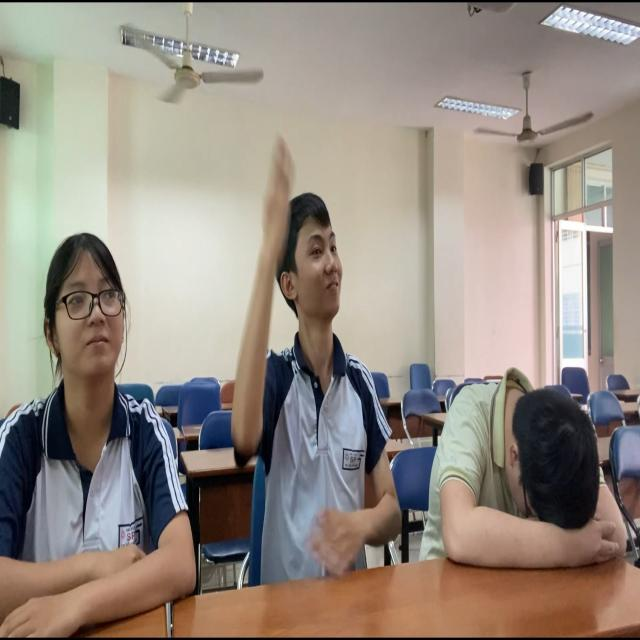raise_hand: (246, 113, 420, 582)
sleep: (426, 371, 635, 593)
